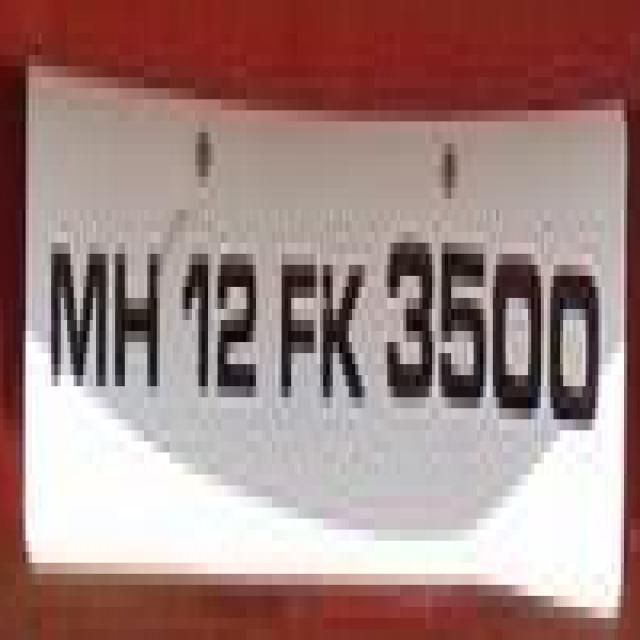plate: (32, 44, 630, 563)
